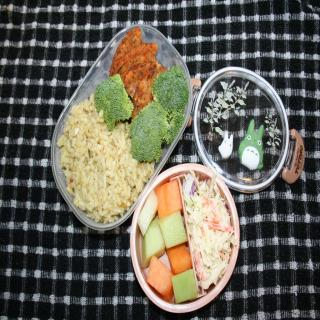Broccoli: (127, 98, 170, 164), (93, 73, 135, 129), (150, 62, 189, 118), (165, 114, 186, 145)
